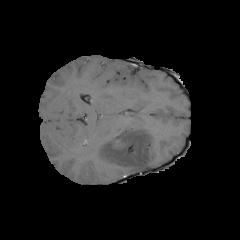glioma: (96, 113, 154, 172)
